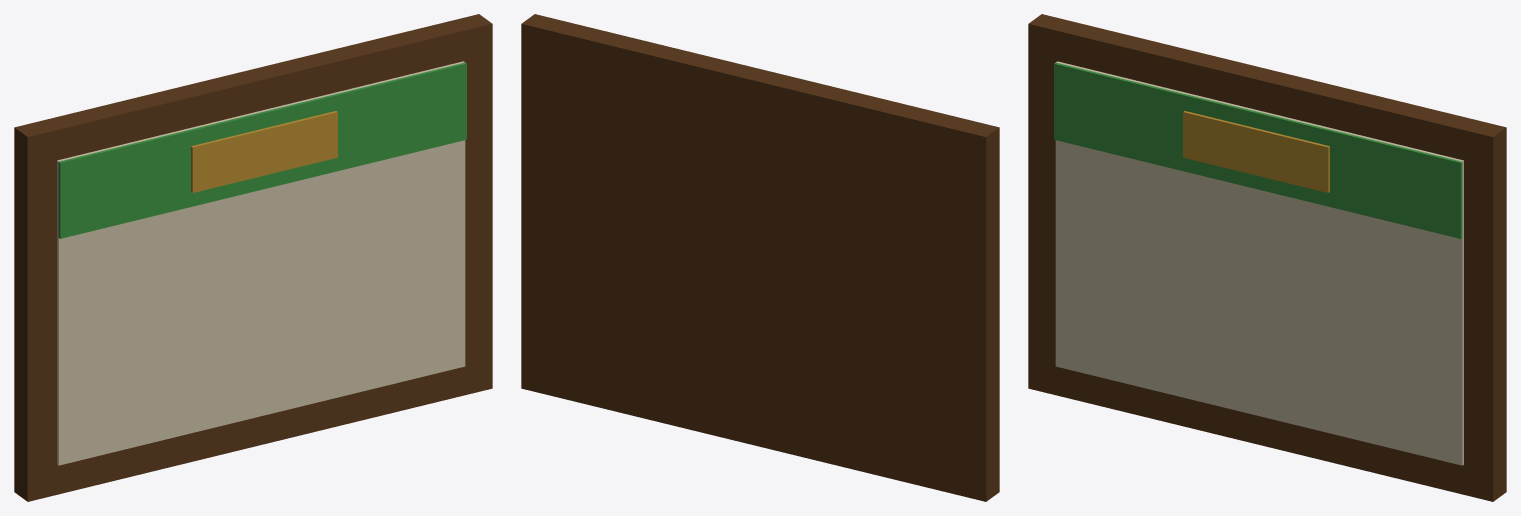
The model's file is ncb-plaque-kham-pha.glb.
3 renders of one model, left to right at view 1: azimuth 30°, elevation 25°; view 2: azimuth 150°, elevation 25°; view 3: azimuth 330°, elevation 25°, orthographic.
Parts seen in each view (by area): view 1: box-prop; view 2: box-prop; view 3: box-prop.
Boxes of the visible parts, x1,y1,x2,y2 form: box-prop: [14, 14, 492, 501]; box-prop: [521, 14, 999, 501]; box-prop: [1028, 14, 1506, 501].
Bounding box in the file's own units: 1.6 × 1.2 × 0.11.
